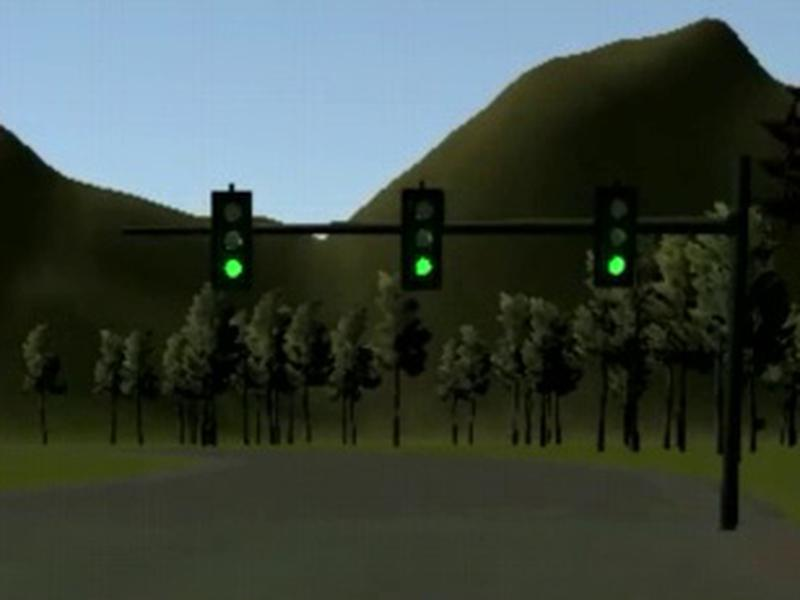Green: (595, 184, 639, 287), (401, 188, 444, 291), (211, 190, 252, 289)
